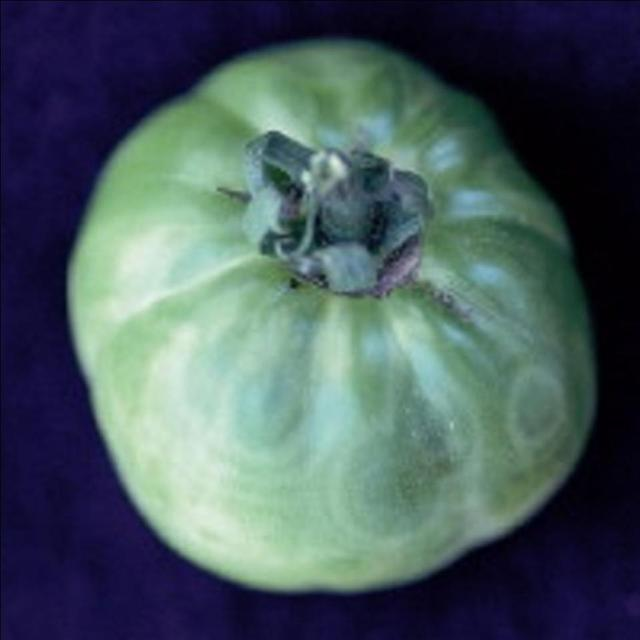Spotted wilt Virus Fruit: (44, 177, 185, 562)
